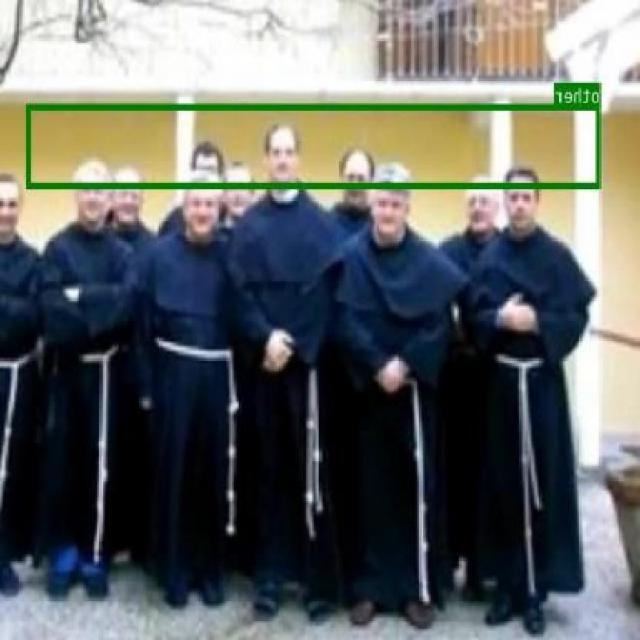other: (26, 102, 602, 186)
